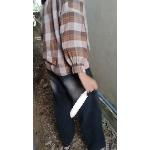Pisau: (68, 87, 94, 121)
